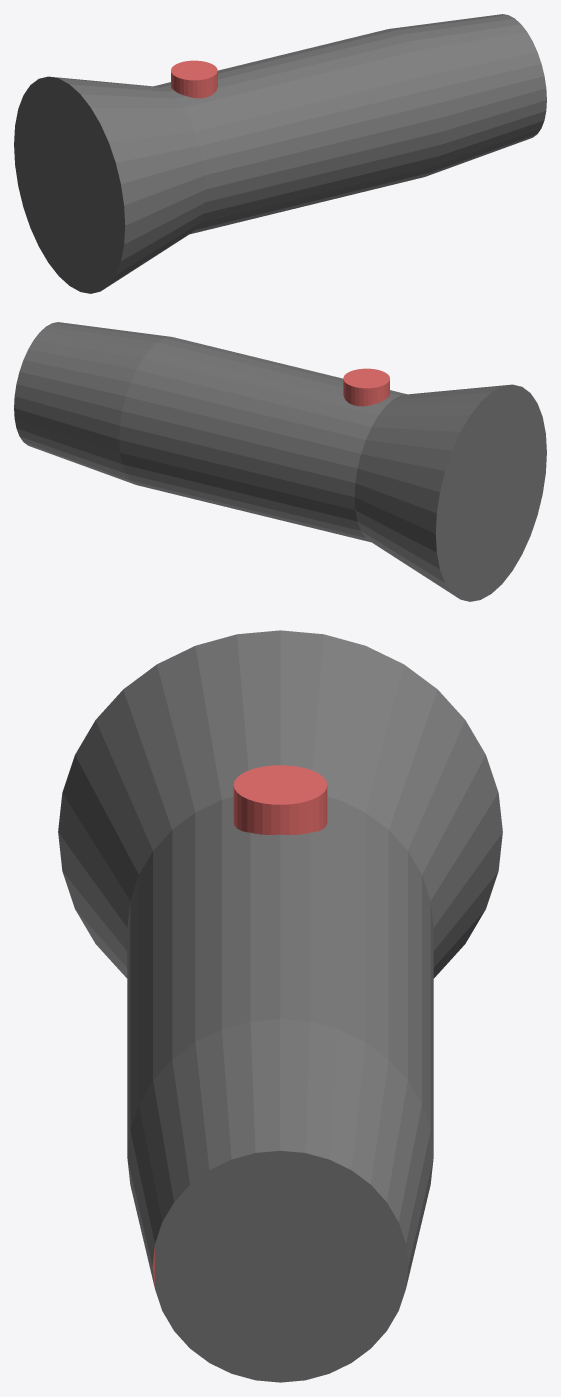
Rendered from Flashlight.fbx.
3 views of the same model, one above another, from view 1: azimuth 30°, elevation 25°; view 2: azimuth 150°, elevation 25°; view 3: azimuth 270°, elevation 25° (orthographic). The views are drawn at different scales.
Parts seen in each view (by area): view 1: Cylinder; view 2: Cylinder; view 3: Cylinder.
Boxes of the visible parts, x1,y1,x2,y2 form: Cylinder: (14, 14, 546, 293); Cylinder: (14, 322, 546, 601); Cylinder: (58, 630, 502, 1382).
Size of the model in its own units: 49.92 by 21.59 by 21.59.
